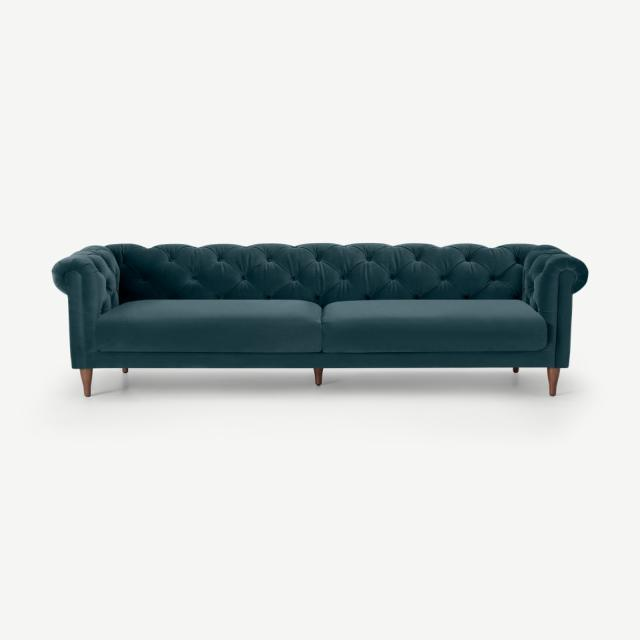Soffa: (49, 234, 587, 402)
